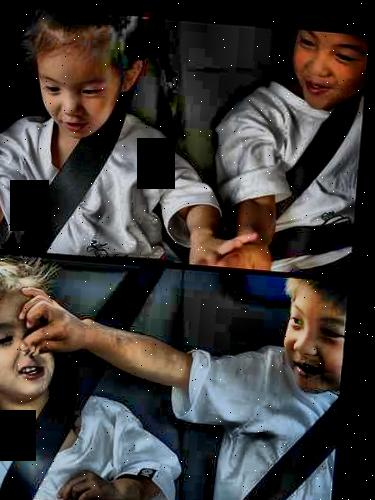seatbelt: (8, 277, 168, 500), (262, 84, 355, 253), (39, 87, 128, 240), (243, 409, 347, 500)
